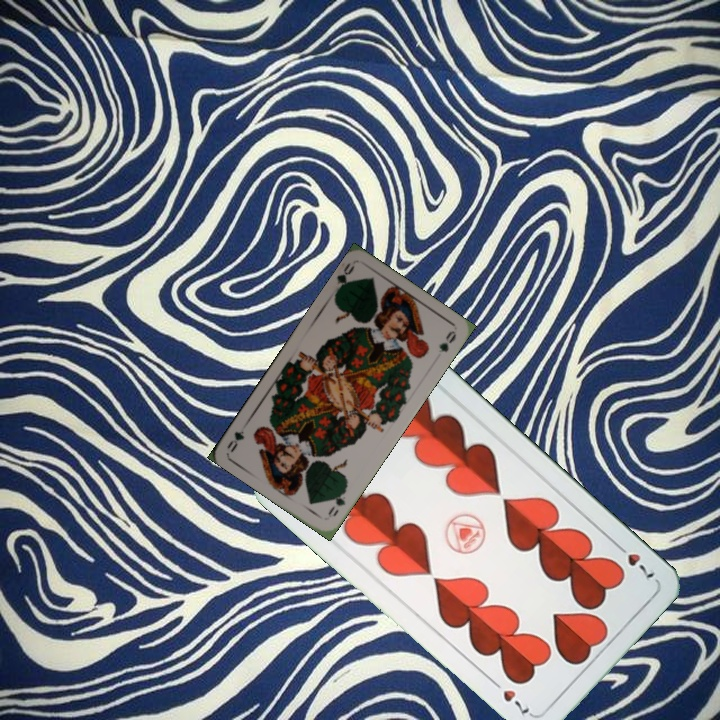GO: (331, 259, 358, 297), (324, 484, 349, 519)
H7: (610, 538, 658, 583)
